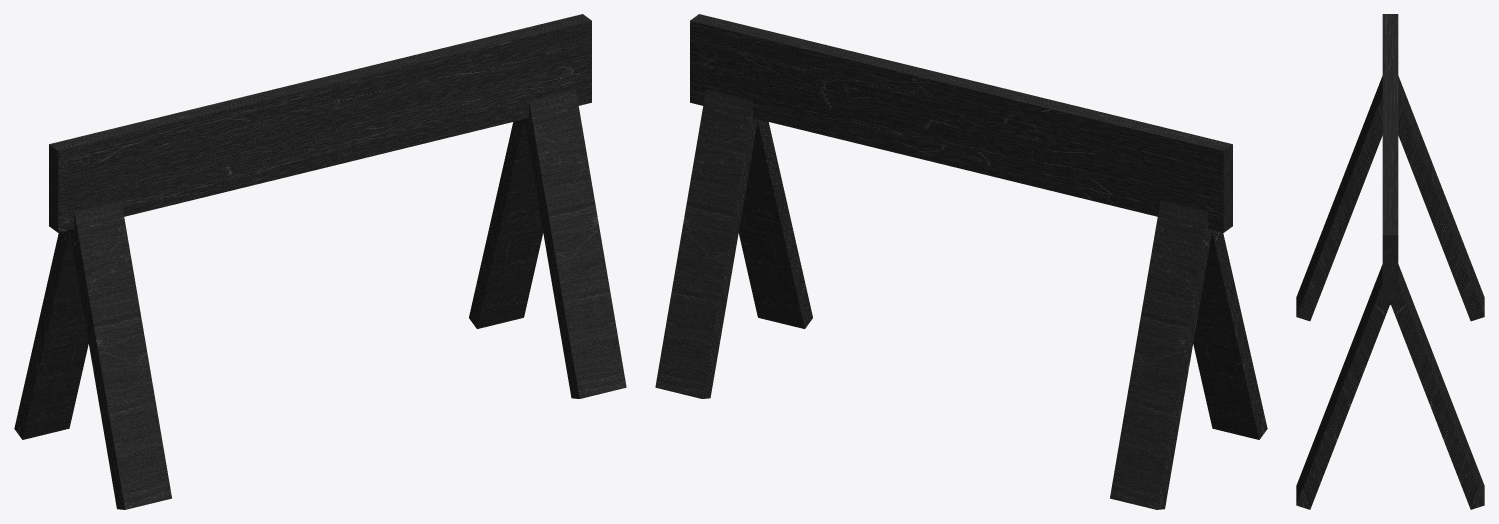
File: barike-do.fbx
3 views of the same model, side by side, from view 1: azimuth 30°, elevation 25°; view 2: azimuth 150°, elevation 25°; view 3: azimuth 270°, elevation 25° (orthographic). The views are drawn at different scales.
Parts seen in each view (by area): view 1: pCube1, polySurface8, polySurface7, polySurface6, polySurface5; view 2: pCube1, polySurface6, polySurface5, polySurface8, polySurface7; view 3: polySurface5, polySurface7, polySurface6, polySurface8, pCube1.
Boxes of the visible parts, box(x1,y1,x2,y2) form: pCube1: box(49, 14, 591, 232); polySurface8: box(69, 200, 171, 509); polySurface7: box(524, 89, 626, 398); polySurface6: box(14, 230, 88, 439); polySurface5: box(469, 119, 543, 328); pCube1: box(690, 14, 1232, 232); polySurface6: box(1110, 200, 1212, 509); polySurface5: box(655, 89, 757, 398); polySurface8: box(1193, 230, 1267, 439); polySurface7: box(738, 119, 812, 328); polySurface5: box(1391, 264, 1484, 509); polySurface7: box(1296, 264, 1389, 509); polySurface6: box(1398, 76, 1484, 321); polySurface8: box(1296, 76, 1382, 321); pCube1: box(1382, 14, 1398, 304).
Size of the model in its own units: 5.05 by 2.99 by 1.81.
